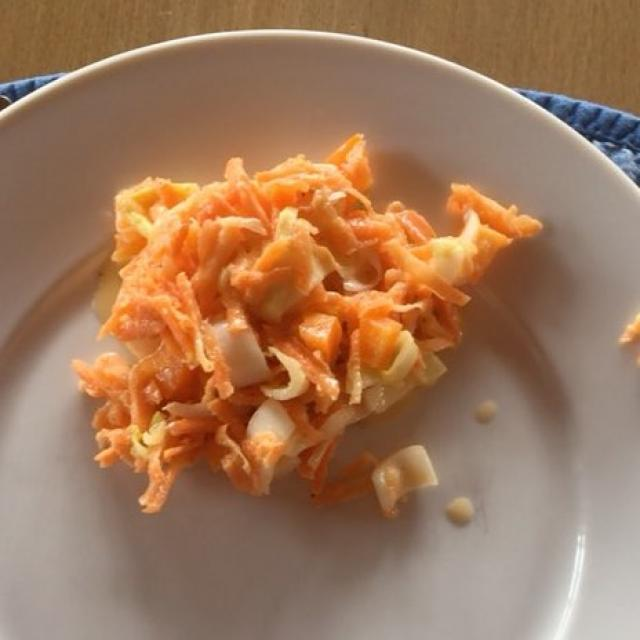carrot-raw: (68, 124, 543, 502)
witloof-chicory: (210, 219, 476, 504)
